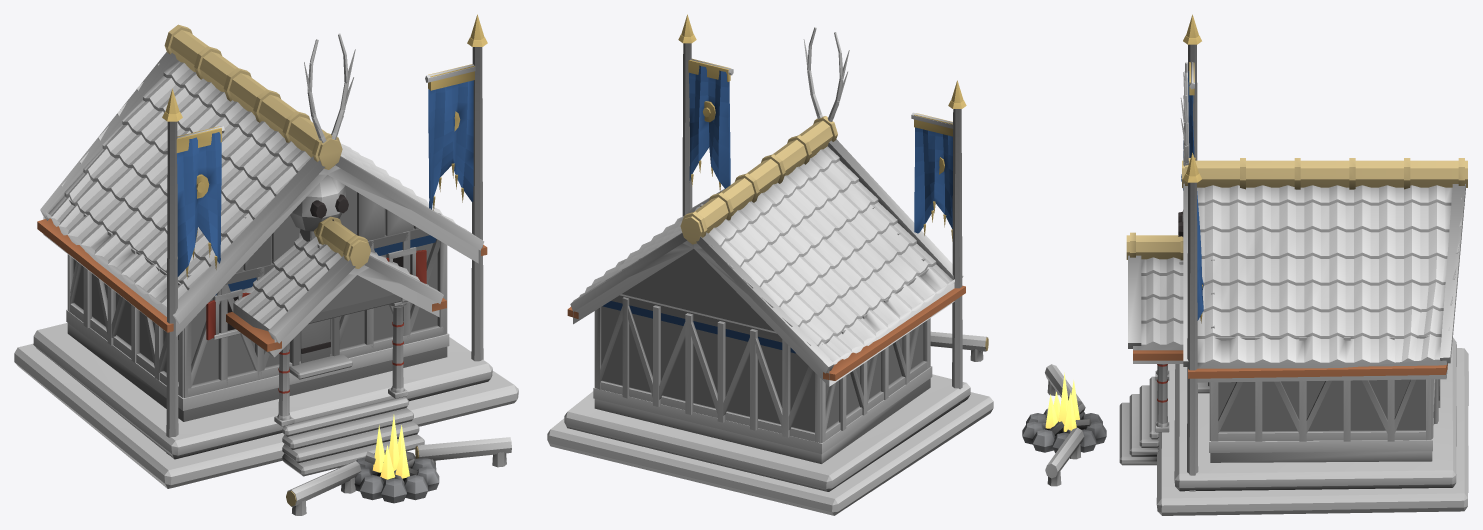
File: arcadia-hall-l1.glb
3 views of the same model, side by side, from view 1: azimuth 30°, elevation 25°; view 2: azimuth 150°, elevation 25°; view 3: azimuth 270°, elevation 25° (orthographic). The views are drawn at different scales.
Visible parts, largest first — view 1: arcadia-hall-l1; view 2: arcadia-hall-l1; view 3: arcadia-hall-l1.
Boxes of the visible parts, left/top/right/bottom form: arcadia-hall-l1: left=14, top=14, right=518, bottom=515; arcadia-hall-l1: left=547, top=14, right=993, bottom=515; arcadia-hall-l1: left=1022, top=14, right=1468, bottom=515.
Bounding box in the file's own units: 0.9408 × 1.02 × 1.11.
